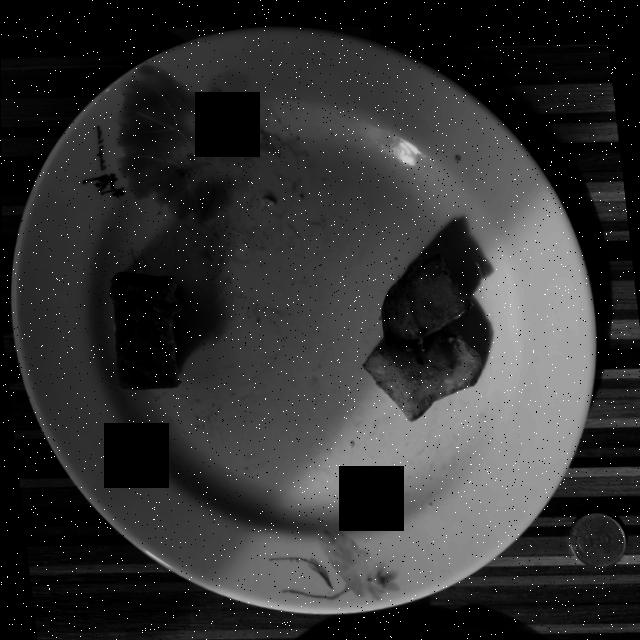coin: (568, 502, 626, 557)
egg tofu: (109, 268, 181, 386)
fried potato: (363, 245, 481, 413)
